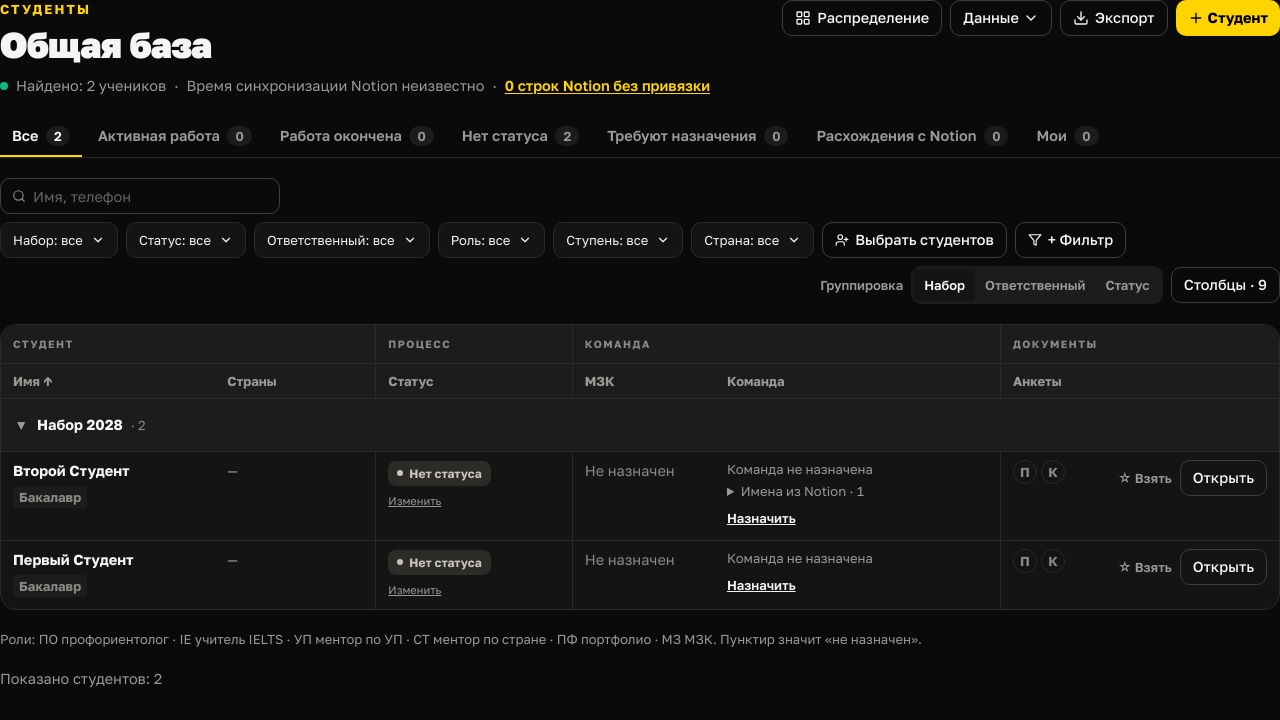
Test: показывает важную информацию и ссылку Notion без таблицы сверки
Step 1. Click the button "Первый Студент" → click(73, 560), box [13,549,134,571]
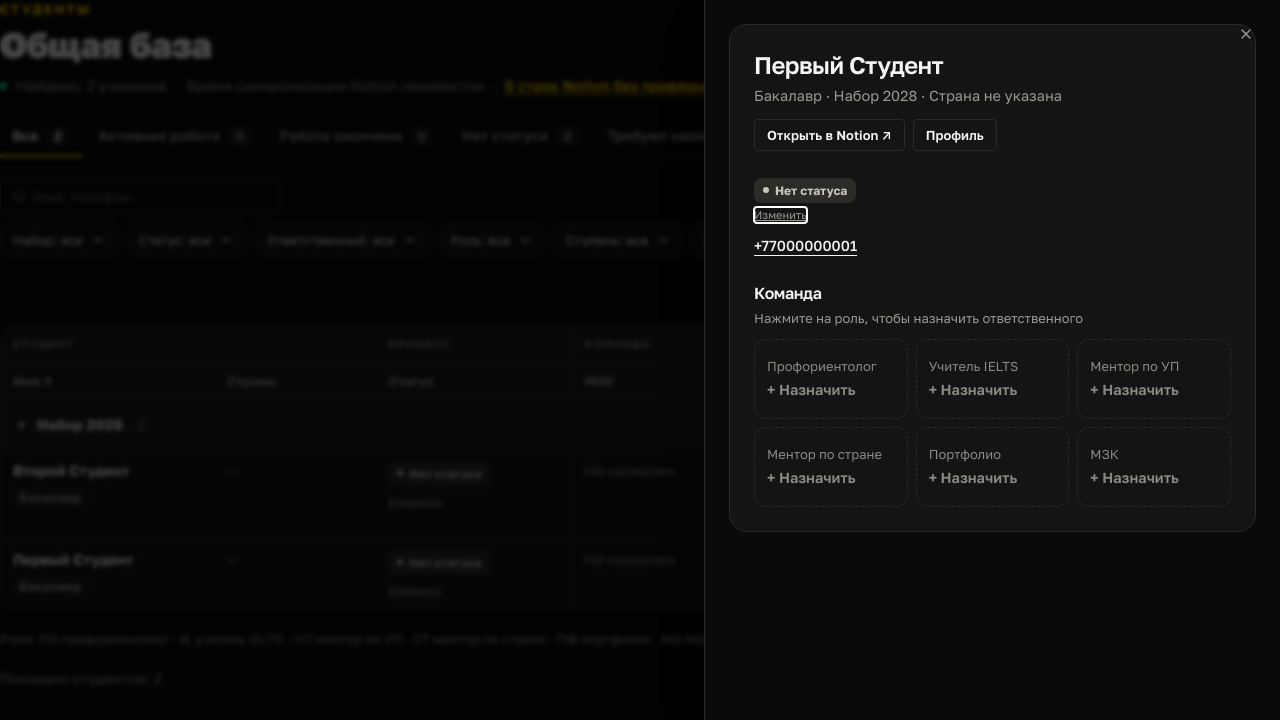
Now the heading "Команда" is shown, box [754,283,822,303]
